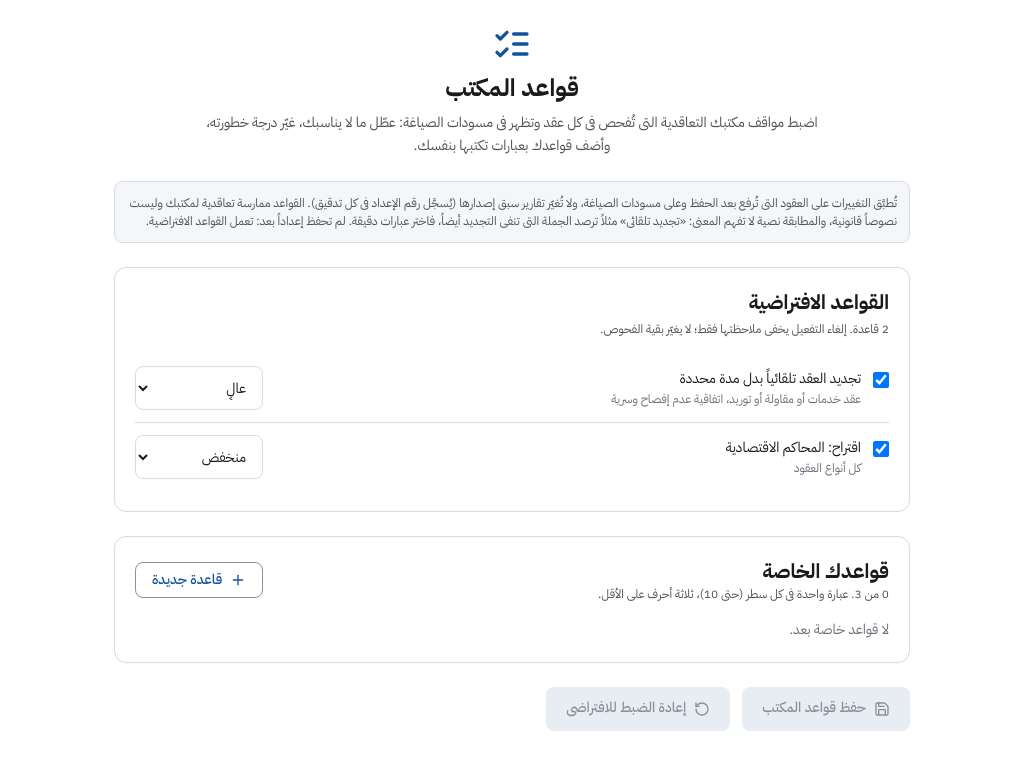
Scenario: OfficePlaybookScreen › تعطيل قاعدة وتغيير درجة أخرى ثم الحفظ يرسل الإعداد المتوقع
The image size is (1024, 759).
Click the checkbox named "تفعيل: تجديد العقد تلقائياً بدل مدة محددة" at (881, 380), box [873,372,889,388]
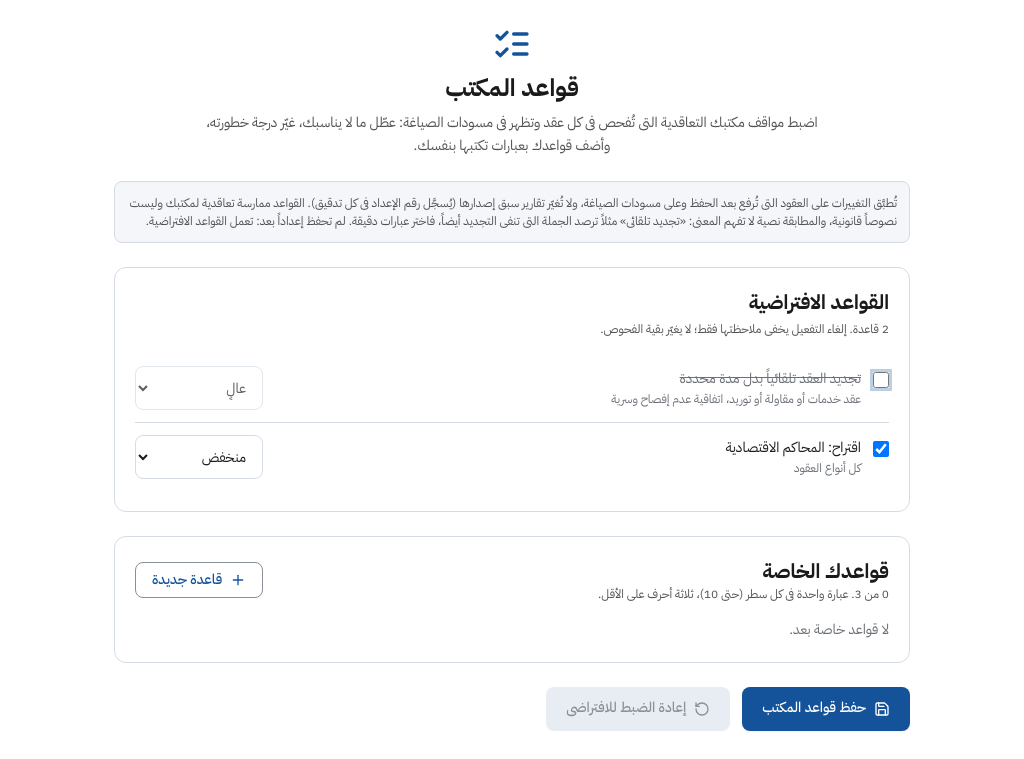
Select "متوسط" in the dropdown named "درجة: اقتراح: المحاكم الاقتصادية" at (199, 457), box [135,435,263,479]
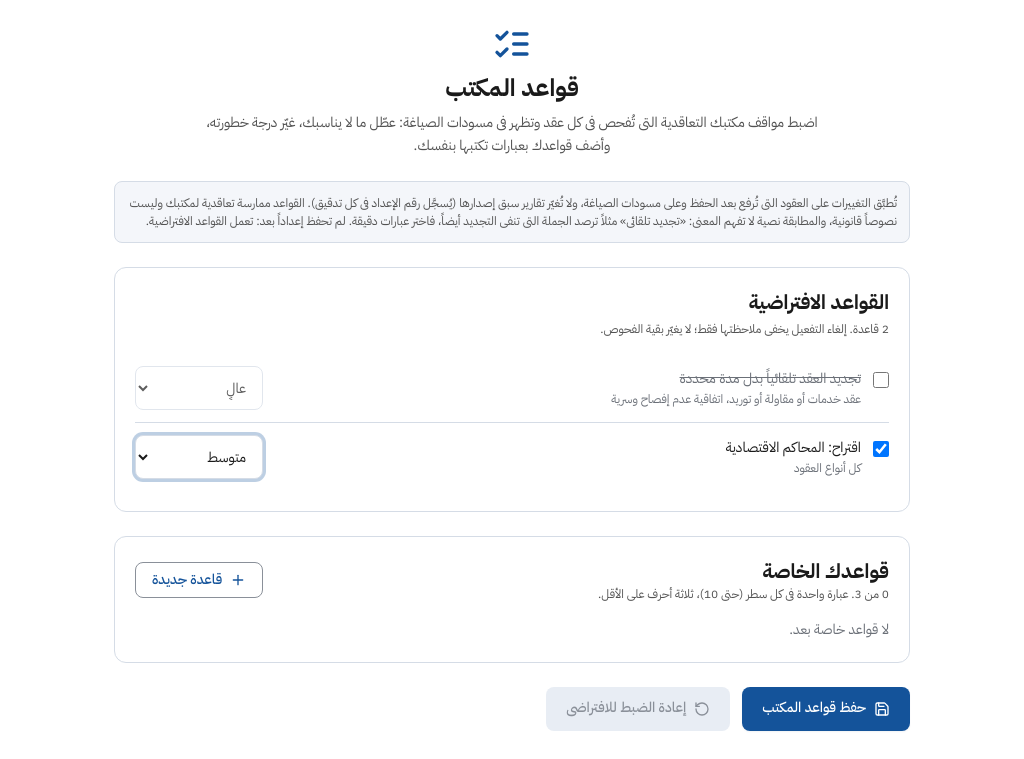
Click the button "حفظ قواعد المكتب" at (826, 709), box [742,687,910,731]
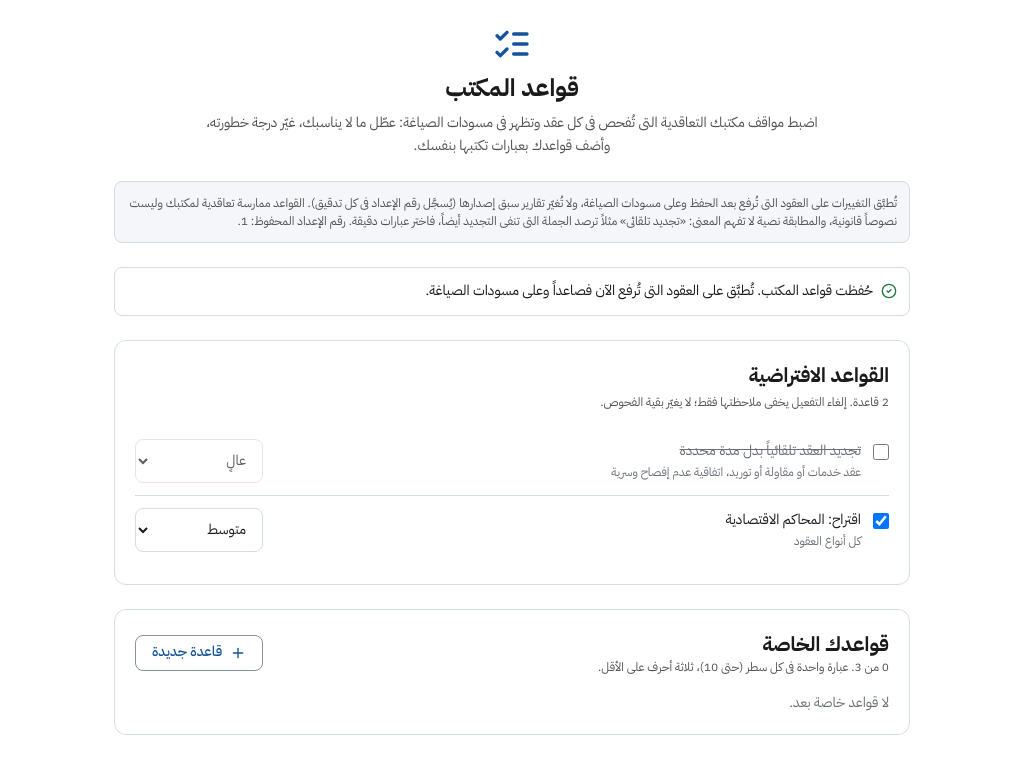
Expected: the text "حُفظت قواعد المكتب" is shown, [425,280,873,301]
Expected: the text "رقم الإعداد المحفوظ: 1" is shown, [237,212,346,230]
